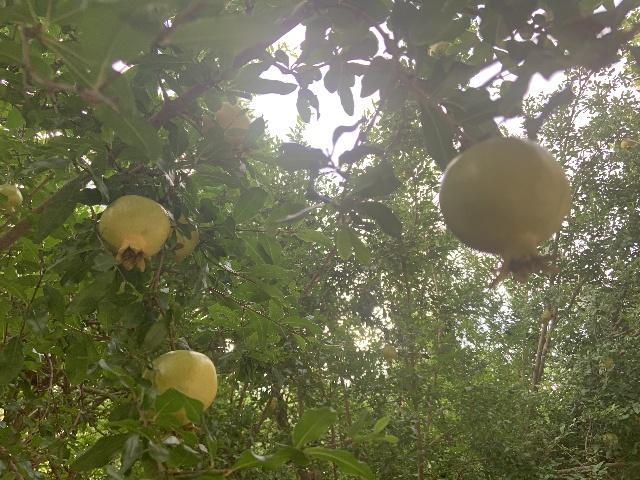mid-growth: (439, 135, 573, 286), (141, 350, 216, 445), (98, 195, 170, 274), (201, 101, 253, 158), (168, 213, 199, 261), (0, 184, 22, 213), (602, 433, 619, 450), (381, 345, 397, 363), (603, 357, 614, 373), (620, 139, 633, 152), (266, 397, 277, 410), (541, 310, 553, 320)
